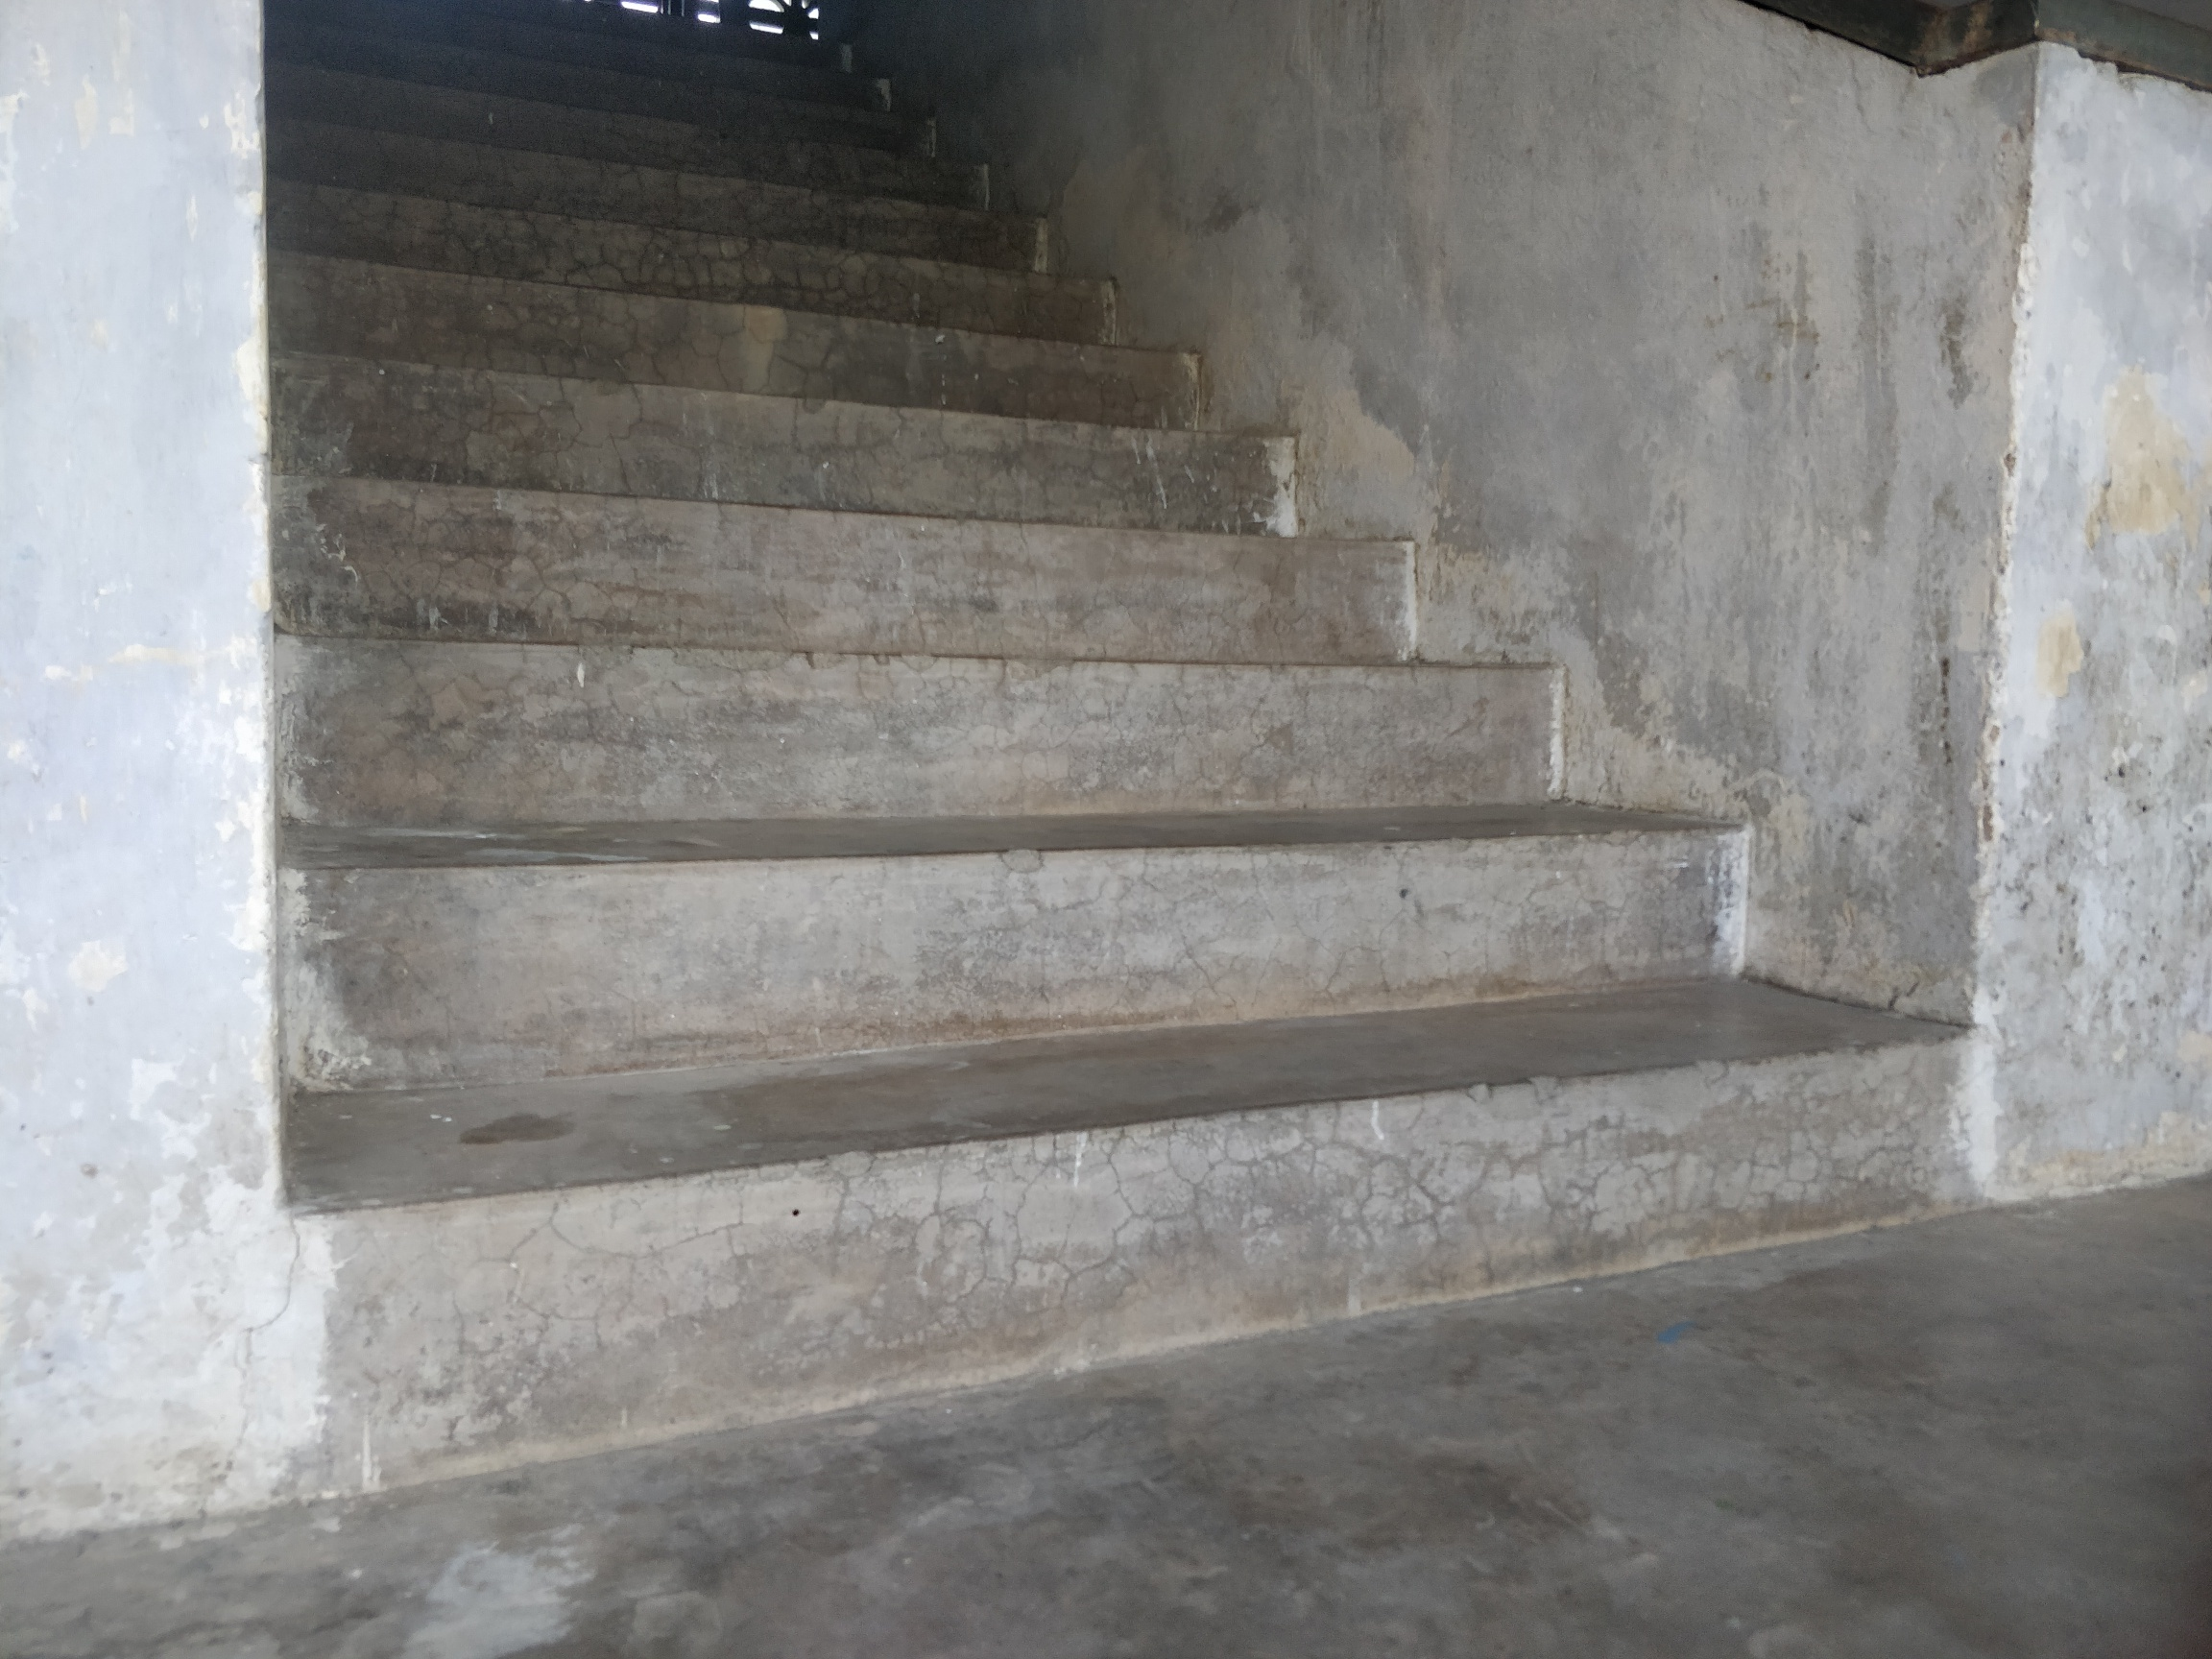stairs_up: (270, 16, 1944, 1368)
